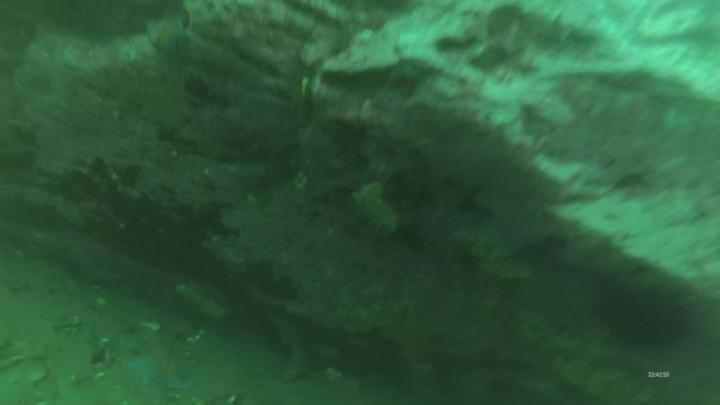echinus: (598, 294, 691, 351)
holothurian: (347, 180, 404, 246), (264, 311, 313, 385), (174, 279, 232, 323)
starfish: (122, 346, 200, 396)
